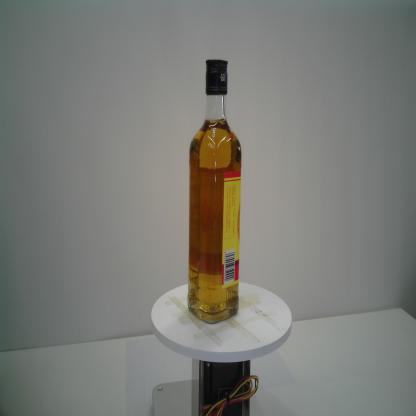Seasoner: (187, 57, 242, 325)
